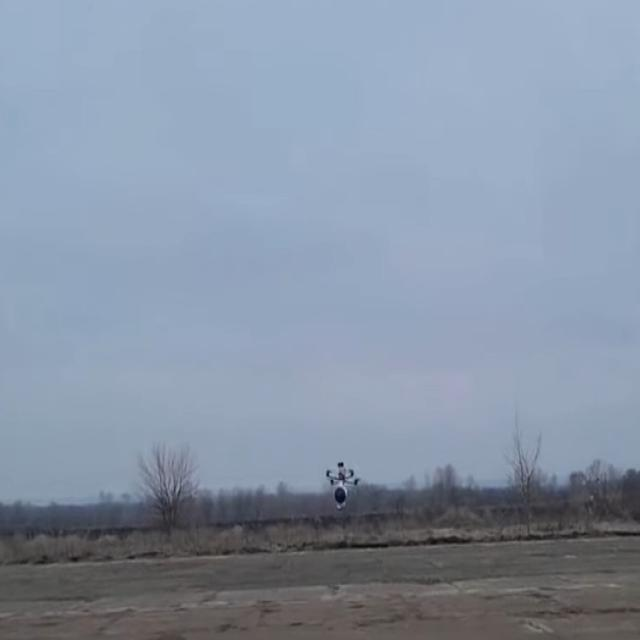drone: (323, 459, 363, 513)
